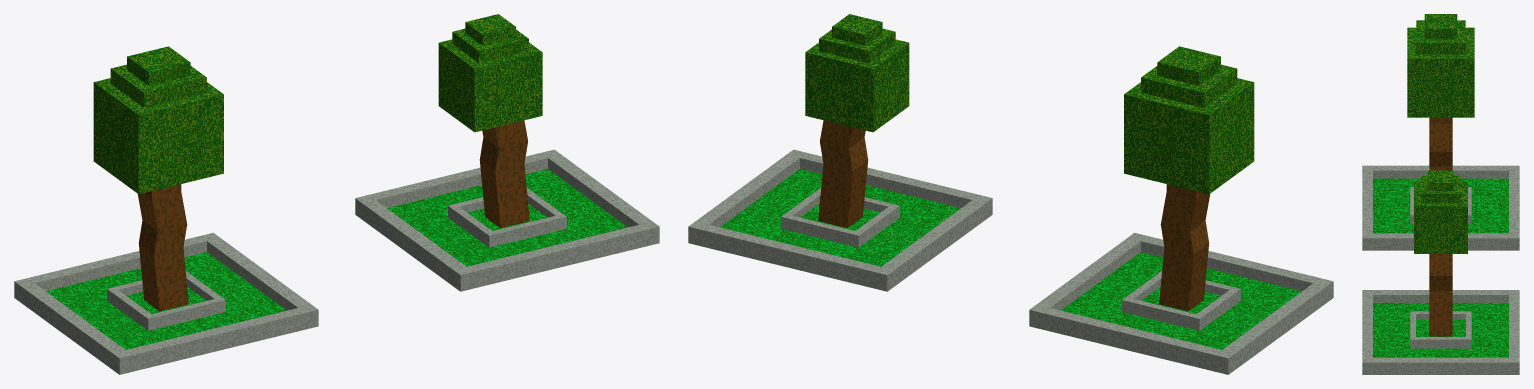
The picture shows the model from 3 angles, left to right: view 1: azimuth 30°, elevation 25°; view 2: azimuth 150°, elevation 25°; view 3: azimuth 270°, elevation 25°; orthographic projection. The views are drawn at different scales.
Visible parts, largest first — view 1: BLOCKYGON_STREET_TREE, BLOCKYGON_STREET_TREE__1_; view 2: BLOCKYGON_STREET_TREE, BLOCKYGON_STREET_TREE__1_; view 3: BLOCKYGON_STREET_TREE__1_, BLOCKYGON_STREET_TREE.
Part boxes in pixels (x1,y1,x2,y2): BLOCKYGON_STREET_TREE: (14,46,318,374); BLOCKYGON_STREET_TREE__1_: (355,14,659,291); BLOCKYGON_STREET_TREE: (1029,46,1333,374); BLOCKYGON_STREET_TREE__1_: (688,14,992,291); BLOCKYGON_STREET_TREE__1_: (1362,170,1519,374); BLOCKYGON_STREET_TREE: (1362,14,1519,250).
Size of the model in its own units: 1466 by 660 by 495.
